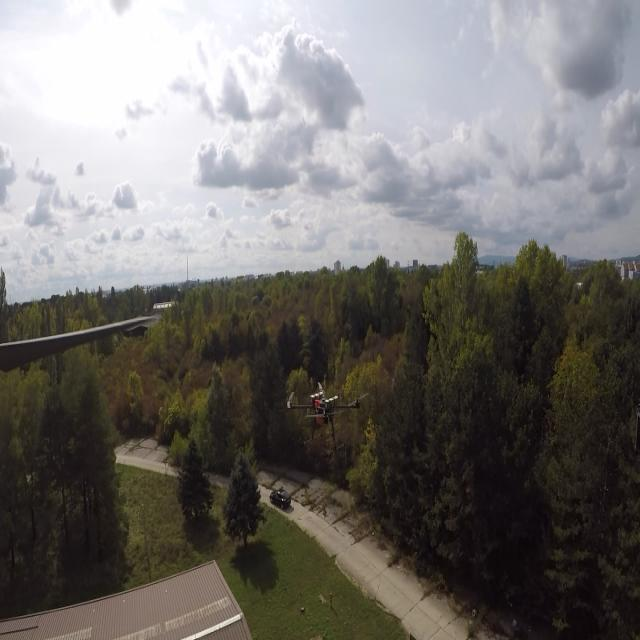UAV: (285, 378, 371, 458)
